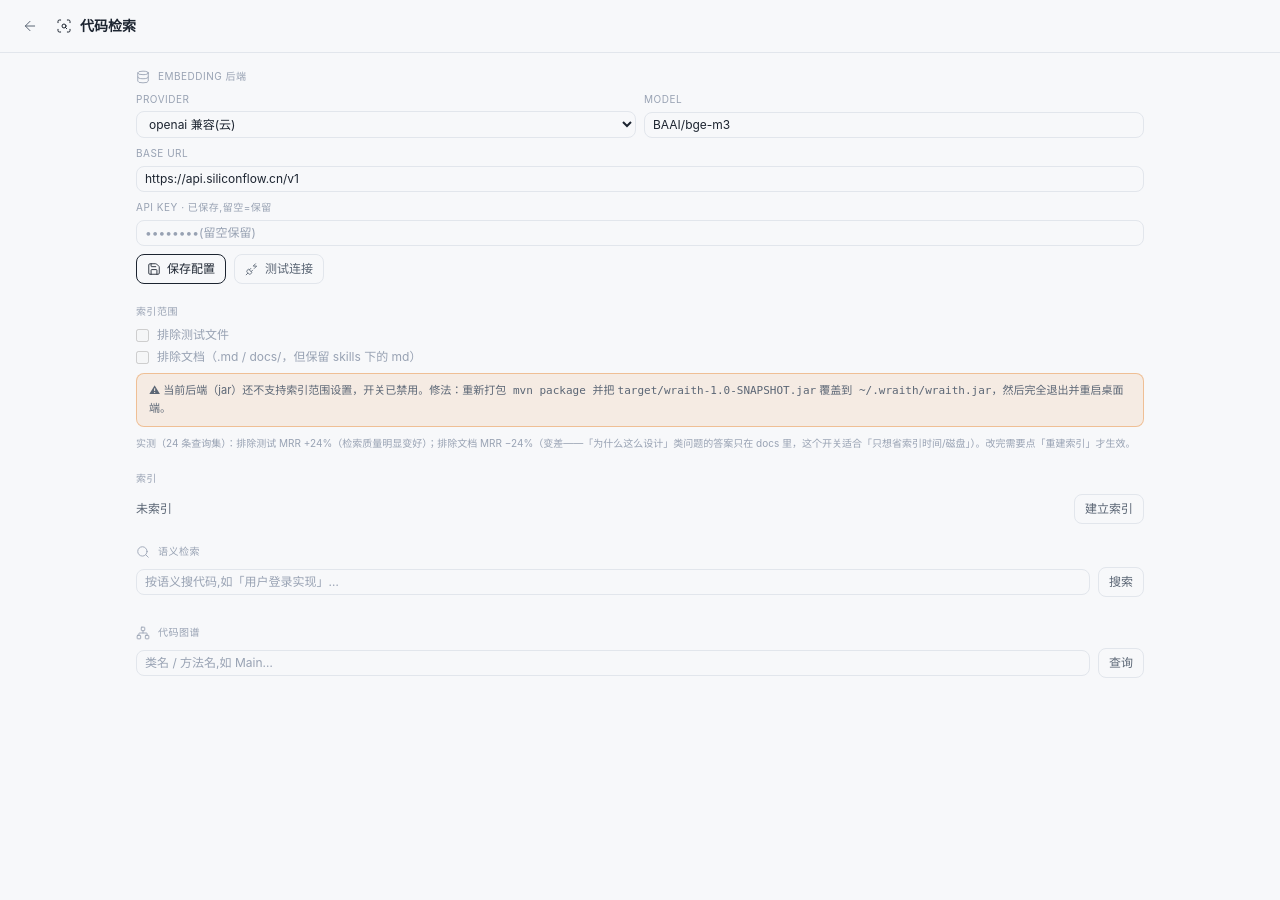
Test case: RagPanel 索引结果 › 后端缺 failedChunks 字段(旧 jar)时不误报不完整
Click the button "建立索引".
click(1109, 509)  # box [1074, 494, 1144, 524]
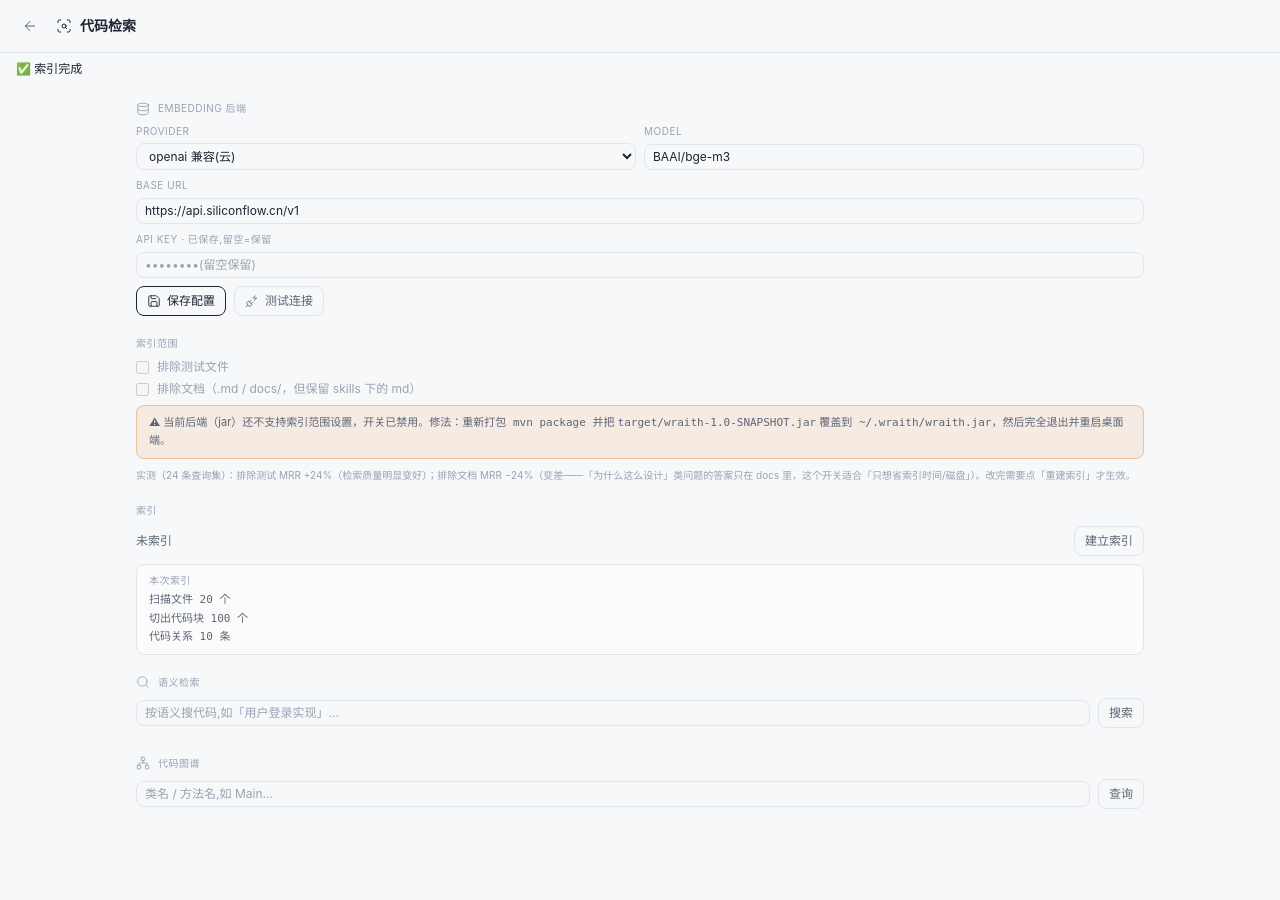
Expected: the text "✅ 索引完成" is shown, [16, 61, 82, 76]
Expected: the element with test id "rag-index-summary" shows "100", [149, 612, 248, 624]
